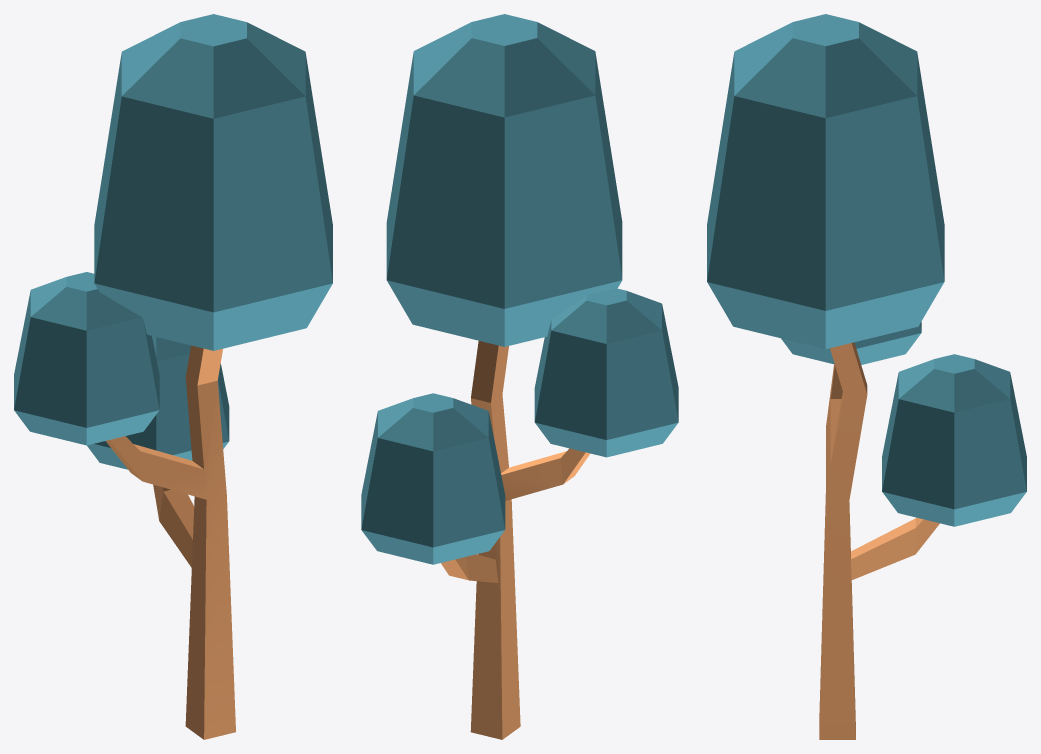
Rendered from tree_thin_dark.obj.
3 renders of one model, left to right at view 1: azimuth 30°, elevation 25°; view 2: azimuth 150°, elevation 25°; view 3: azimuth 270°, elevation 25°, orthographic.
Parts seen in each view (by area): view 1: tree_thin_dark; view 2: tree_thin_dark; view 3: tree_thin_dark.
Boxes of the visible parts, x1,y1,x2,y2 form: tree_thin_dark: (14, 14, 332, 739); tree_thin_dark: (361, 14, 678, 739); tree_thin_dark: (707, 14, 1026, 739).
Bounding box in the file's own units: 6.8 × 14.9 × 6.17.
